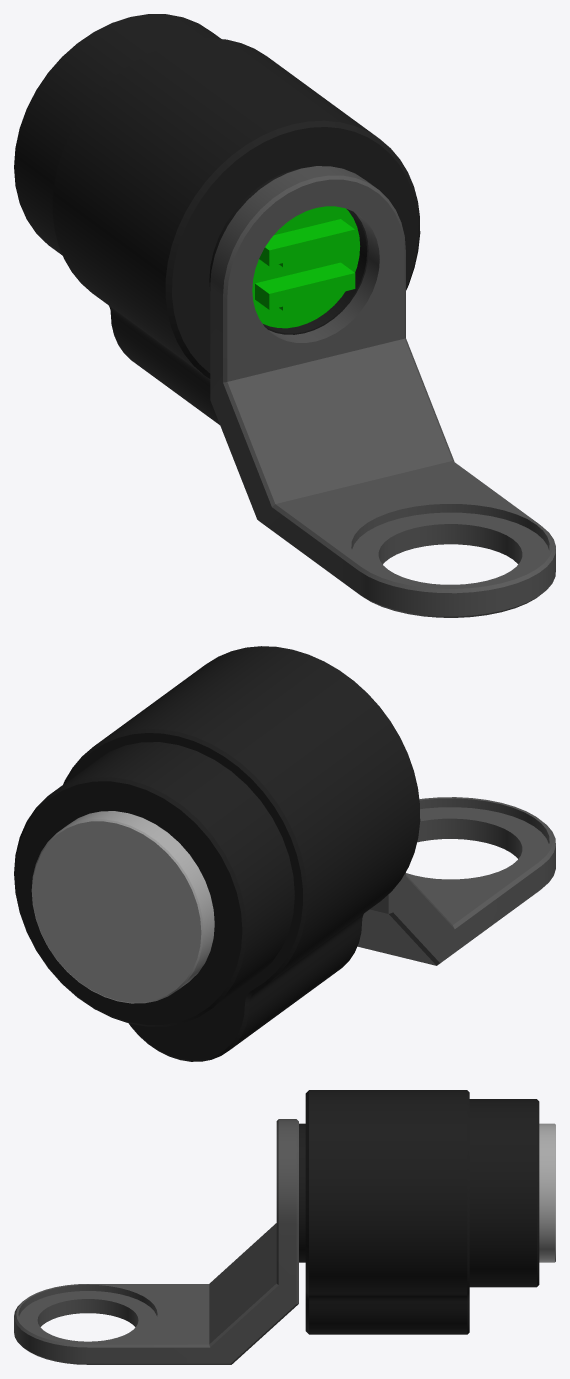
Rendered from forearm.dae.
3 views of the same model, one above another, from view 1: azimuth 30°, elevation 25°; view 2: azimuth 150°, elevation 25°; view 3: azimuth 270°, elevation 25° (orthographic). The views are drawn at different scales.
Parts seen in each view (by area): view 1: SketchUp (×7), 组_2 (×3); view 2: SketchUp (×3), 组_2 (×2); view 3: SketchUp (×4), 组_2 (×2).
Boxes of the visible parts, box(x1,y1,x2,y2) form: SketchUp (×7): box(14, 14, 420, 424); 组_2 (×3): box(210, 166, 555, 617); SketchUp (×3): box(14, 646, 420, 1061); 组_2 (×2): box(357, 797, 555, 965); SketchUp (×4): box(299, 1090, 555, 1334); 组_2 (×2): box(14, 1119, 298, 1364).
Bounding box in the file's own units: 3.62 × 9.51 × 4.55.
